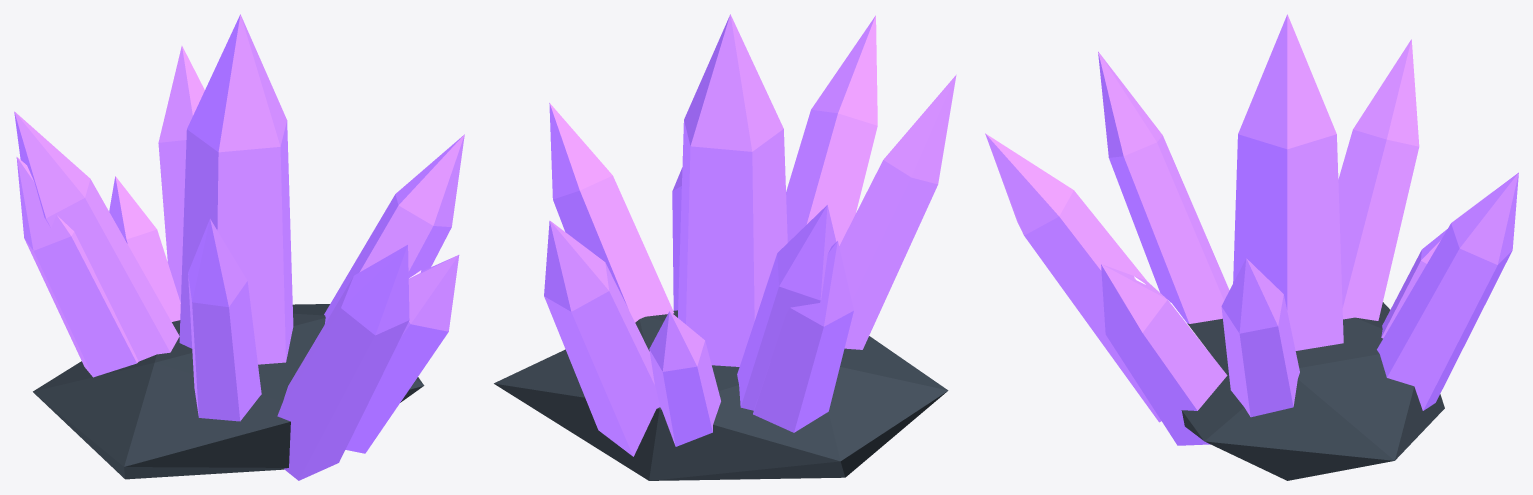
File: crystal-cluster-4.glb
3 renders of one model, left to right at view 1: azimuth 30°, elevation 25°; view 2: azimuth 150°, elevation 25°; view 3: azimuth 270°, elevation 25°, orthographic. The views are drawn at different scales.
Parts seen in each view (by area): view 1: crystal_cluster_4; view 2: crystal_cluster_4; view 3: crystal_cluster_4.
Boxes of the visible parts, box(x1,y1,x2,y2) form: crystal_cluster_4: box(14, 14, 464, 480); crystal_cluster_4: box(494, 14, 956, 480); crystal_cluster_4: box(985, 14, 1518, 480).
Bounding box in the file's own units: 0.4453 × 0.5021 × 0.5761.
